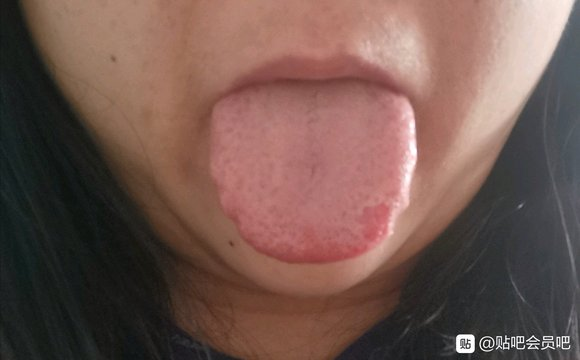baitaishe: (209, 78, 418, 264)
botaishe: (355, 195, 391, 249)
chihenshe: (211, 178, 256, 246)
